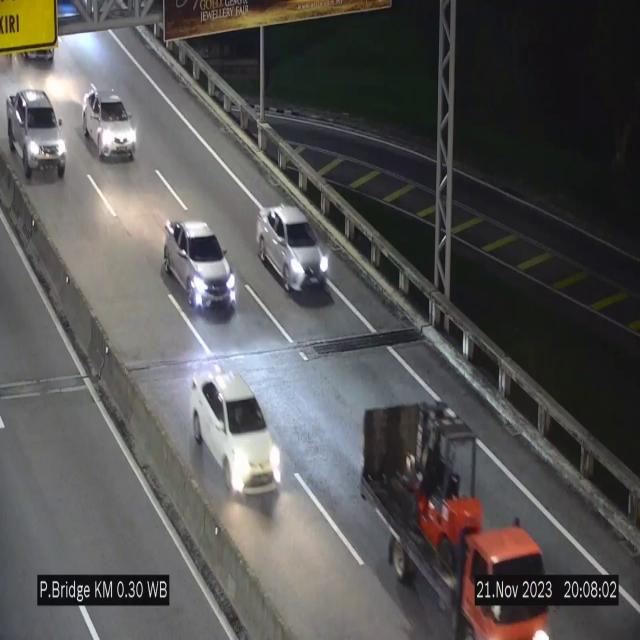Car: (192, 373, 281, 498), (163, 220, 237, 311), (257, 205, 331, 292), (7, 90, 66, 180), (83, 86, 137, 159)
Truck: (360, 405, 556, 639)
